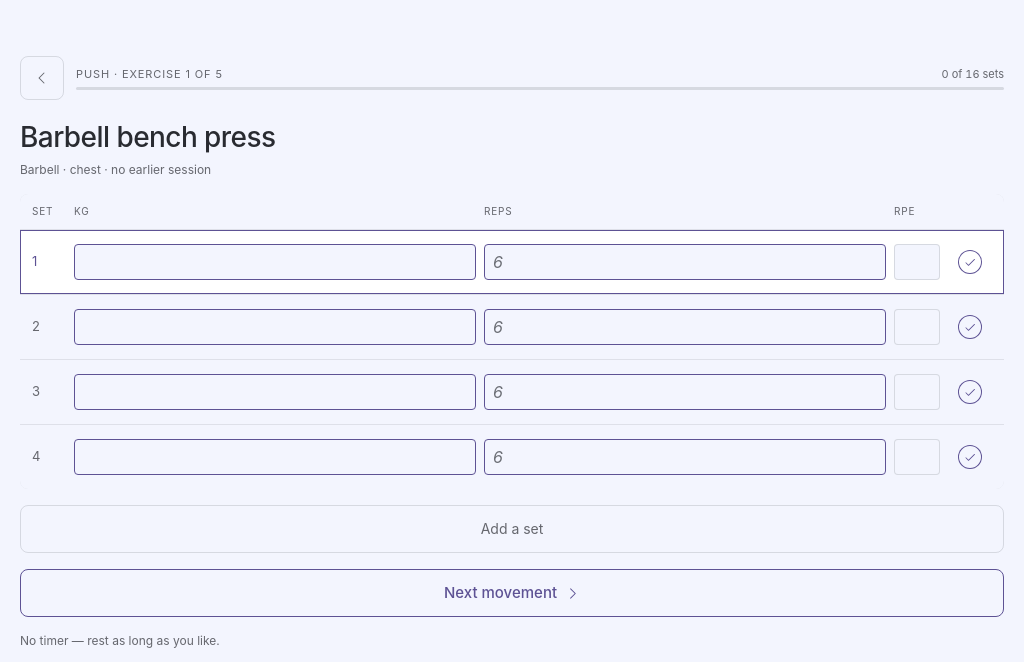
moving through a session › offers no next movement on the last one
Click the button "Next movement": (512, 593) [20,569,1004,617]
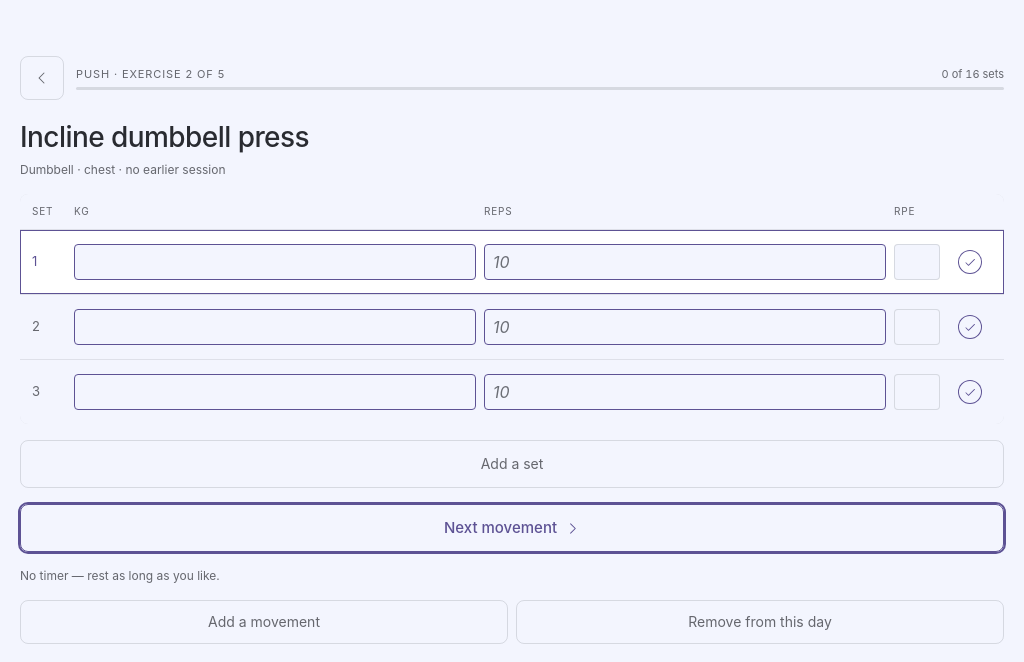
Click the button "Next movement": (512, 528) [20,504,1004,552]
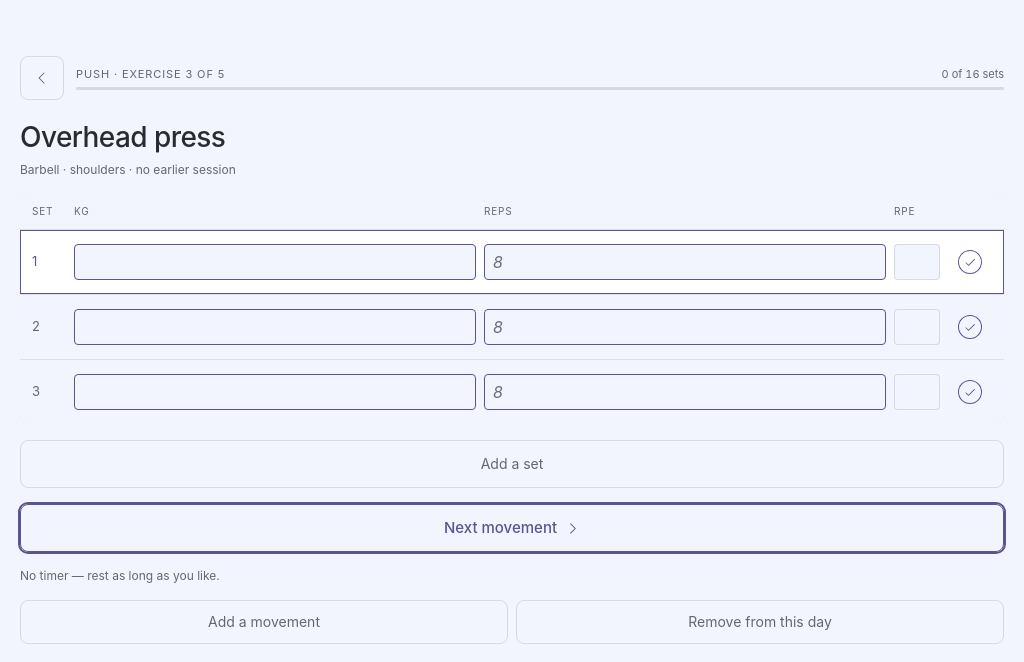
Click the button "Next movement": (512, 528) [20,504,1004,552]
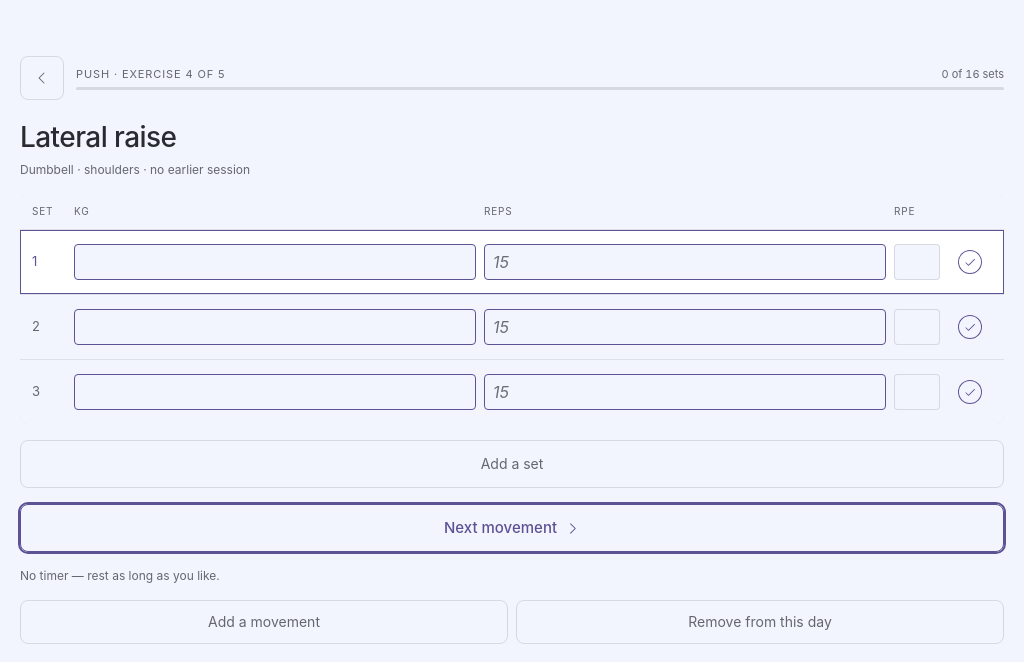
Click the button "Next movement": (512, 528) [20,504,1004,552]
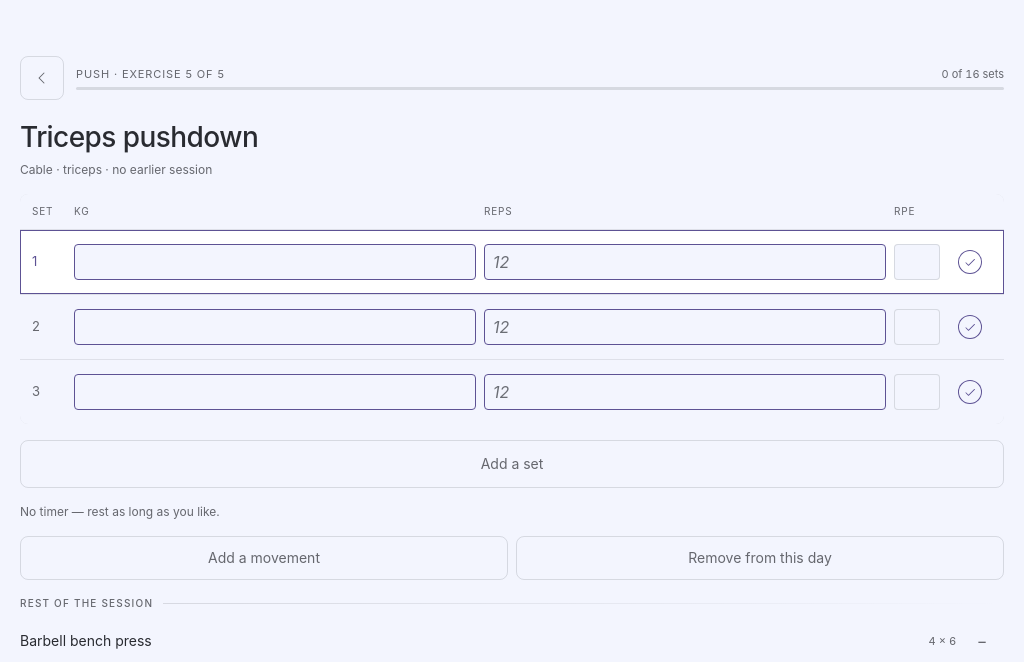
Now the button "Next movement" is gone
